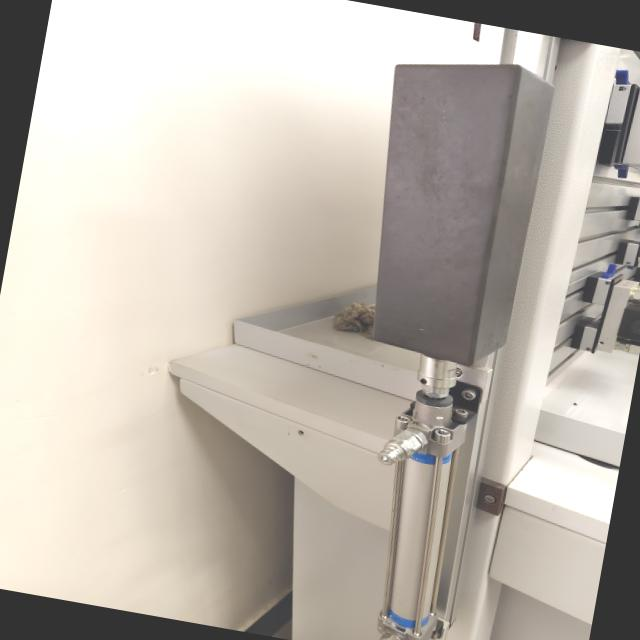load: (285, 21, 585, 640)
